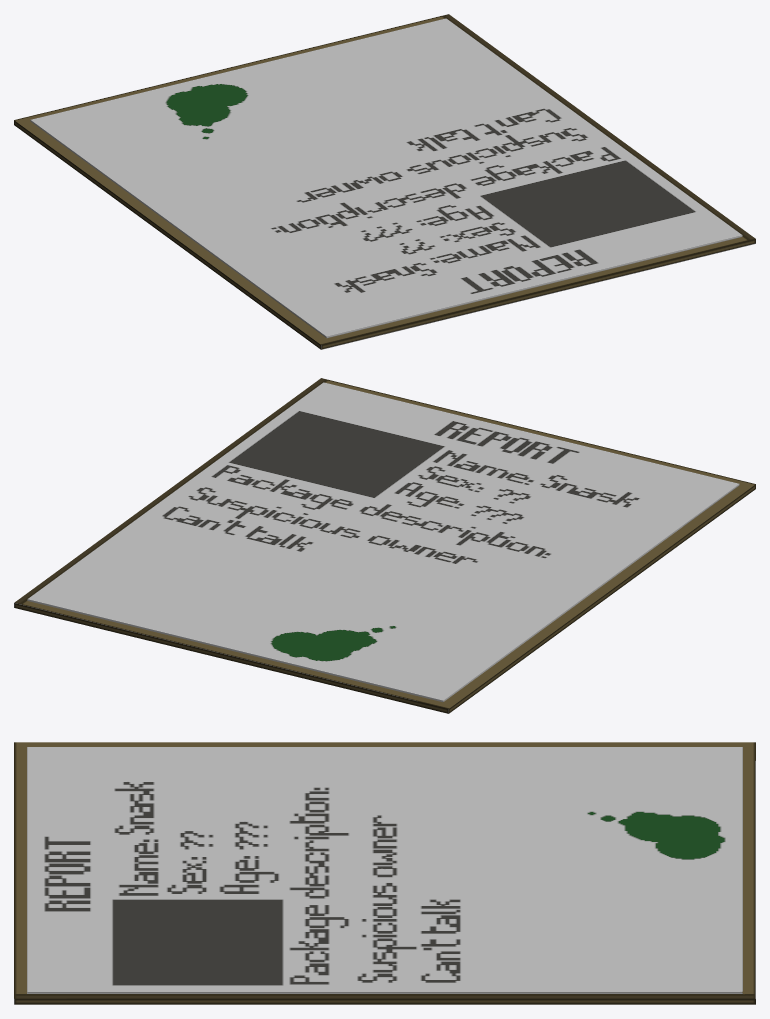
The model's file is note_full_ailen.fbx.
3 views of the same model, one above another, from view 1: azimuth 30°, elevation 25°; view 2: azimuth 150°, elevation 25°; view 3: azimuth 270°, elevation 25° (orthographic). The views are drawn at different scales.
Parts seen in each view (by area): view 1: cube_1, cube; view 2: cube_1, cube; view 3: cube_1, cube.
Part boxes in pixels (<box>): cube_1: <box>30,18,742,338</box>; cube: <box>14,14,755,349</box>; cube_1: <box>27,382,739,702</box>; cube: <box>14,378,755,713</box>; cube_1: <box>27,747,742,993</box>; cube: <box>14,742,755,1004</box>.
Bounding box in the file's own units: 1731 × 25 × 2119.
1 material, 1 textured.
